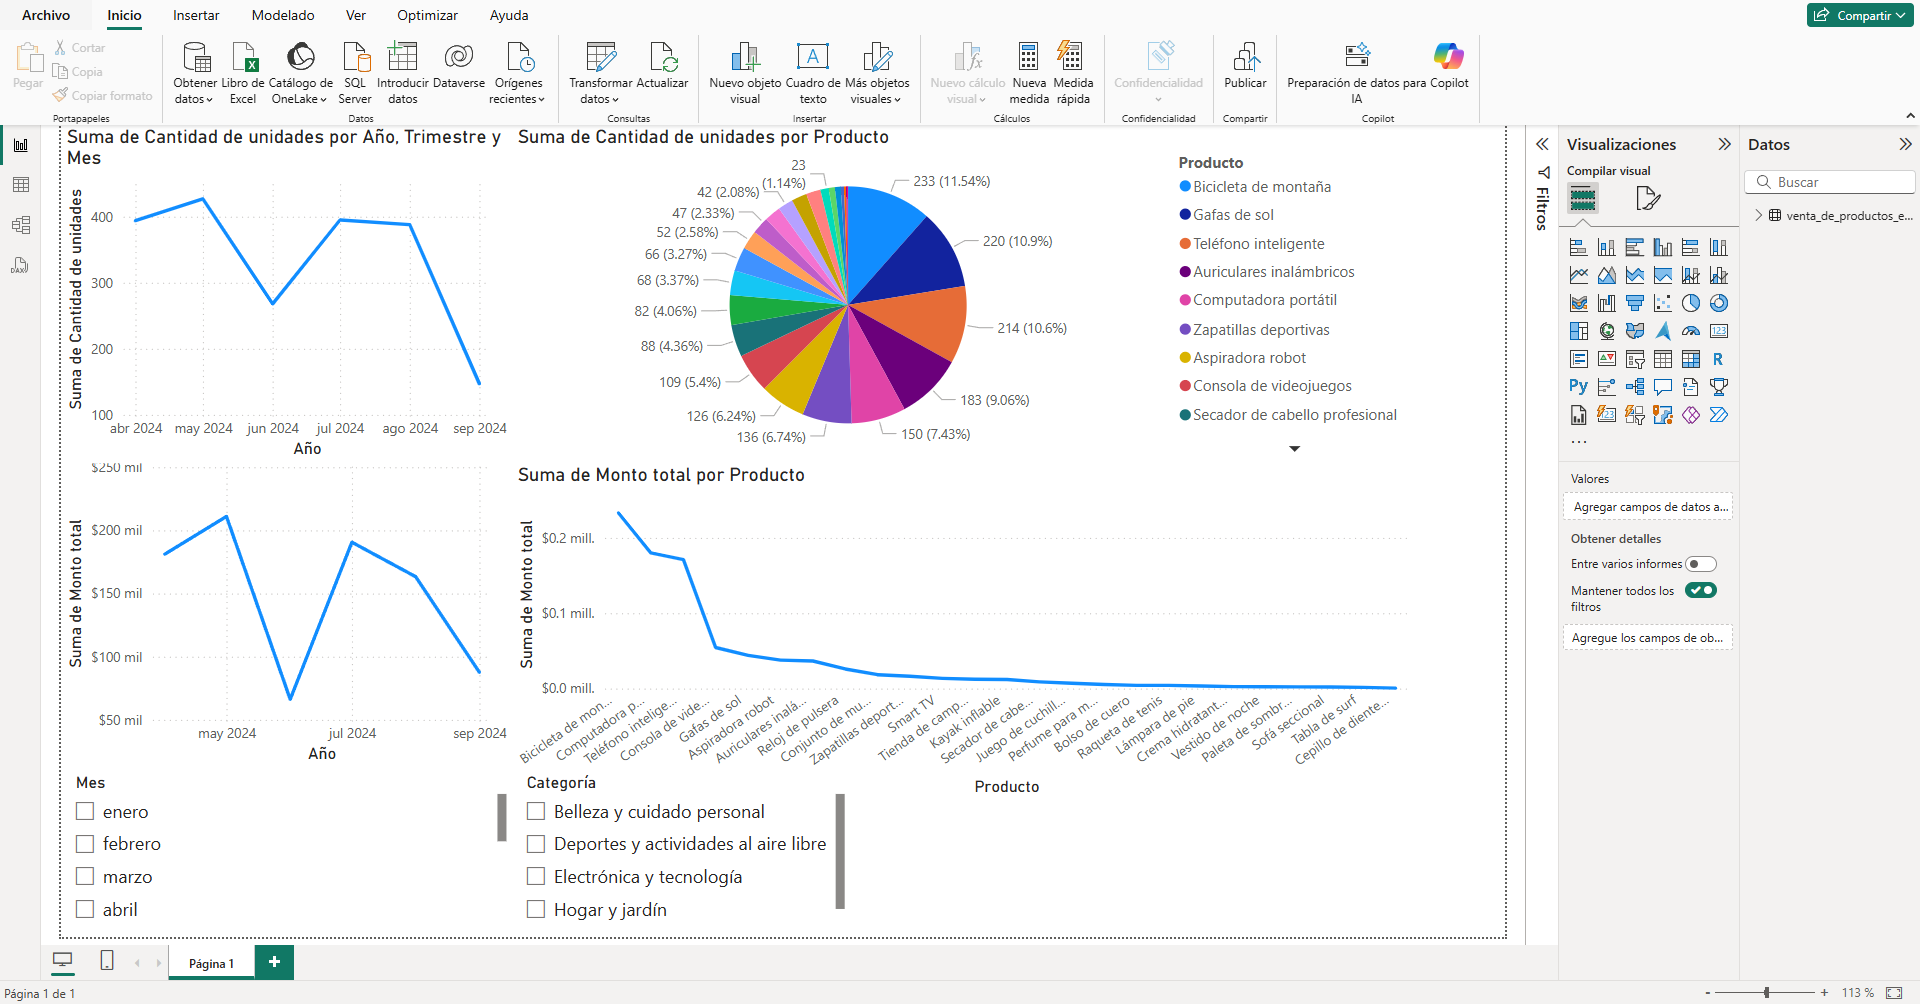

The page's visual inventory and layout, read from the dashboard file:
{"tool":"powerbi","page":{"name":"Página 1","canvas":[1280,720],"ordinal":0},"visuals":[{"type":"pieChart","fields":{"Category":["Venta+de+Productos+en+Línea.Producto"],"Y":["Sum(Venta+de+Productos+en+Línea.Cantidad de unidades)"]},"box":[399.9,0,800,300],"z":0},{"type":"lineChart","fields":{"Category":["Venta+de+Productos+en+Línea.Fecha.Variación.Jerarquía de fechas.Año","Venta+de+Productos+en+Línea.Fecha.Variación.Jerarquía de fechas.Trimestre","Venta+de+Productos+en+Línea.Fecha.Variación.Jerarquía de fechas.Mes","Venta+de+Productos+en+Línea.Fecha.Variación.Jerarquía de fechas.Día"],"Y":["Sum(Venta+de+Productos+en+Línea.Monto total)"]},"box":[0,270.1,400,300],"z":1000},{"type":"lineChart","fields":{"Y":["Sum(Venta+de+Productos+en+Línea.Monto total)"],"Category":["Venta+de+Productos+en+Línea.Producto"]},"box":[399.9,299.9,800,300],"z":2000},{"type":"lineChart","fields":{"Category":["Venta+de+Productos+en+Línea.Fecha.Variación.Jerarquía de fechas.Año","Venta+de+Productos+en+Línea.Fecha.Variación.Jerarquía de fechas.Trimestre","Venta+de+Productos+en+Línea.Fecha.Variación.Jerarquía de fechas.Mes","Venta+de+Productos+en+Línea.Fecha.Variación.Jerarquía de fechas.Día"],"Y":["Sum(Venta+de+Productos+en+Línea.Cantidad de unidades)"]},"box":[0,0,400,300],"z":3000},{"type":"slicer","fields":{"Values":["Venta+de+Productos+en+Línea.Fecha.Variación.Jerarquía de fechas.Mes"]},"box":[0,570,400,150],"z":4000},{"type":"slicer","fields":{"Values":["Venta+de+Productos+en+Línea.Categoría"]},"box":[399.9,570,299.9,150],"z":5000}]}

Visuals, with their boxes on the page's 1280x720 design canvas (x1, y1, x2, y2). These are canvas units, not pixel positions in the 1920x1004 screenshot, which may show the page scaled, cropped or inside an application window:
pieChart - Venta+de+Productos+en+Línea.Producto x Sum(Venta+de+Productos+en+Línea.Cantidad de unidades): 400:0:1200:300
lineChart - Venta+de+Productos+en+Línea.Fecha.Variación.Jerarquía de fechas.Año x Venta+de+Productos+en+Línea.Fecha.Variación.Jerarquía de fechas.Trimestre: 0:270:400:570
lineChart - Sum(Venta+de+Productos+en+Línea.Monto total) x Venta+de+Productos+en+Línea.Producto: 400:300:1200:600
lineChart - Venta+de+Productos+en+Línea.Fecha.Variación.Jerarquía de fechas.Año x Venta+de+Productos+en+Línea.Fecha.Variación.Jerarquía de fechas.Trimestre: 0:0:400:300
slicer - Venta+de+Productos+en+Línea.Fecha.Variación.Jerarquía de fechas.Mes: 0:570:400:720
slicer - Venta+de+Productos+en+Línea.Categoría: 400:570:700:720
